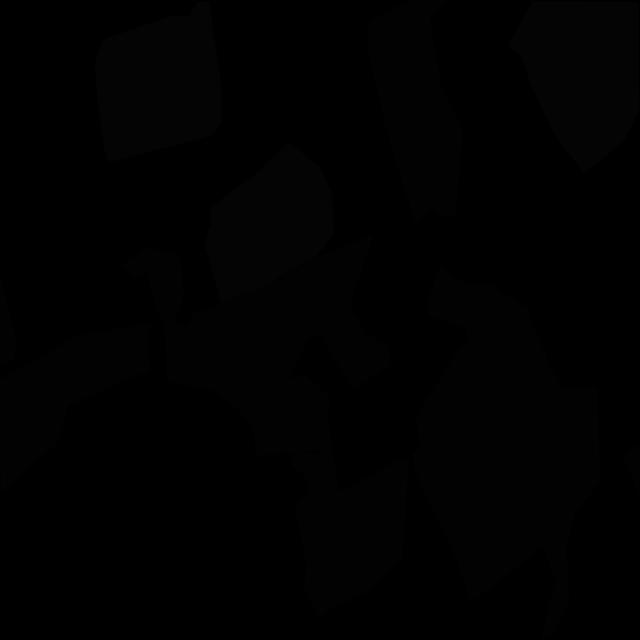cardboard: (412, 266, 600, 639), (121, 234, 392, 455), (0, 323, 150, 493), (292, 420, 408, 619), (368, 0, 463, 223), (0, 275, 18, 366), (623, 442, 640, 497)
soft_plastic: (508, 1, 639, 173), (204, 142, 334, 304), (94, 2, 222, 162)
